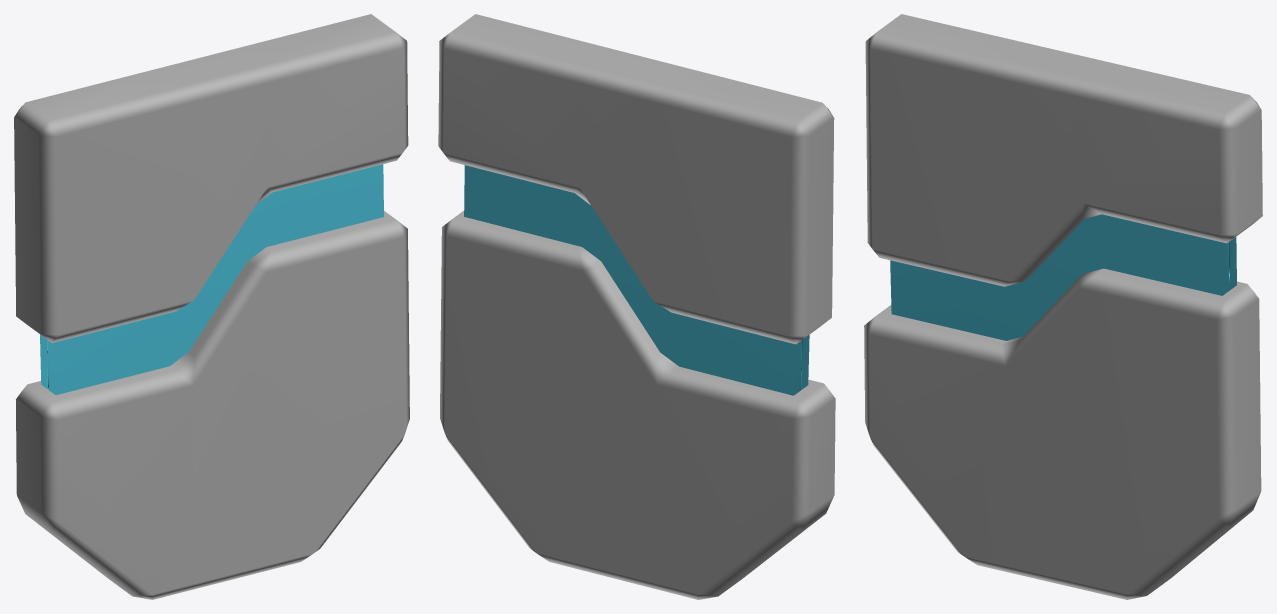
The model's file is panel_005.fbx.
3 renders of one model, left to right at view 1: azimuth 30°, elevation 25°; view 2: azimuth 150°, elevation 25°; view 3: azimuth 330°, elevation 25°, orthographic.
Parts seen in each view (by area): view 1: panel_005; view 2: panel_005; view 3: panel_005.
Part boxes in pixels (box(x1,y1,x2,y2)): panel_005: box(14, 14, 409, 599); panel_005: box(438, 14, 835, 599); panel_005: box(864, 14, 1262, 599).
Bounding box in the file's own units: 507 × 93.02 × 665.
